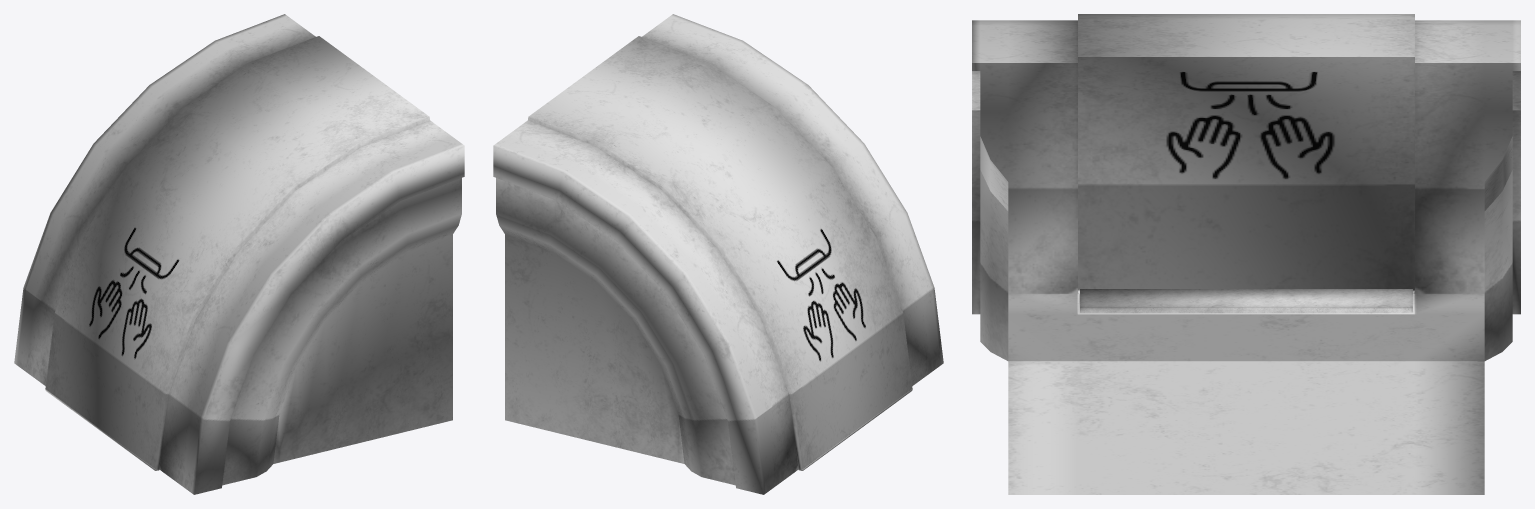
The model's file is Bathroom_HandDrier.fbx.
3 views of the same model, side by side, from view 1: azimuth 30°, elevation 25°; view 2: azimuth 150°, elevation 25°; view 3: azimuth 270°, elevation 25° (orthographic). The views are drawn at different scales.
Parts seen in each view (by area): view 1: HandDrier_low; view 2: HandDrier_low; view 3: HandDrier_low.
Part boxes in pixels (x1,y1,x2,y2): HandDrier_low: [14, 14, 464, 494]; HandDrier_low: [493, 14, 943, 494]; HandDrier_low: [972, 14, 1520, 494].
Bounding box in the file's own units: 33.5 × 33.64 × 38.05.
1 material, 1 textured.
